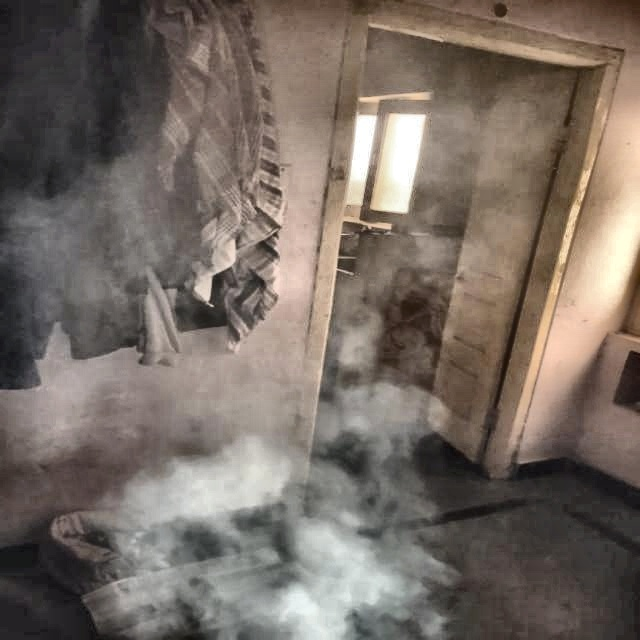smoke: (130, 402, 387, 640)
